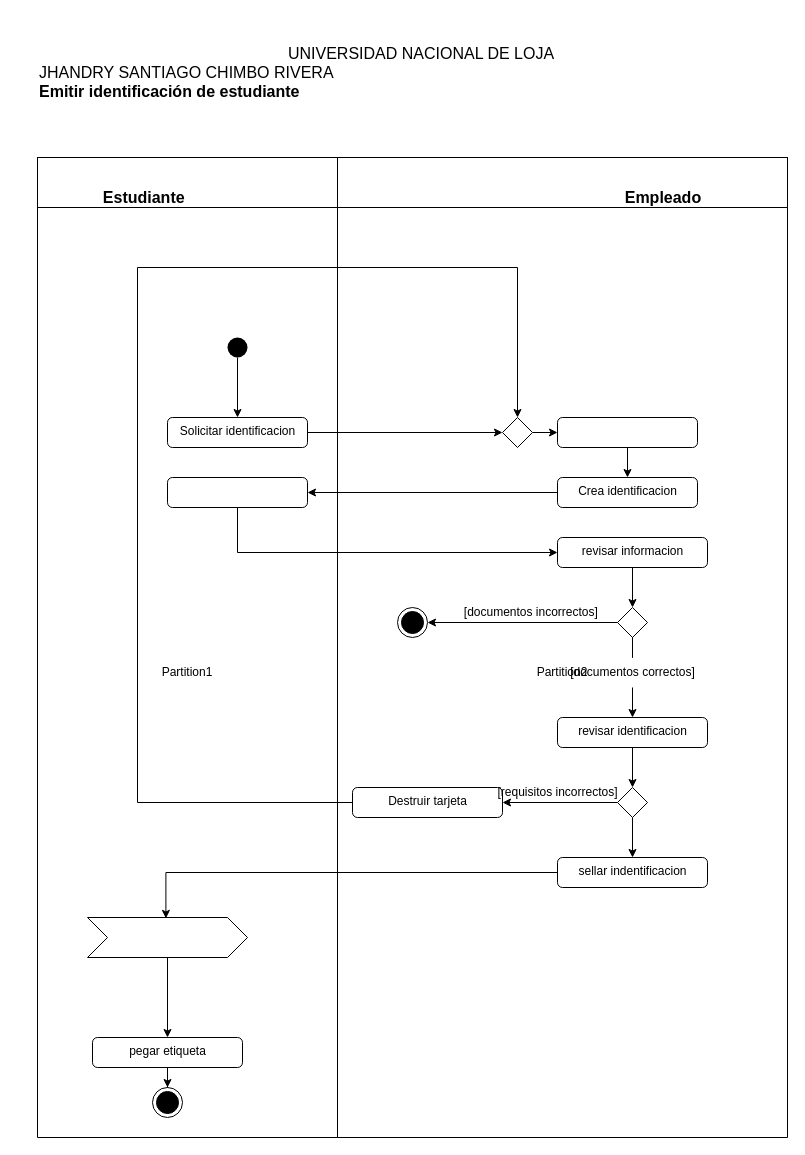
This 805x1155 diagram has some shape labels left out. Here are the shapes that lost their labels. From the top down, the centre of each, then its label:
(627,432): Entregar formularios
(237,492): Rellenar formularios
(167,937): recicbir etiqueta semestre
